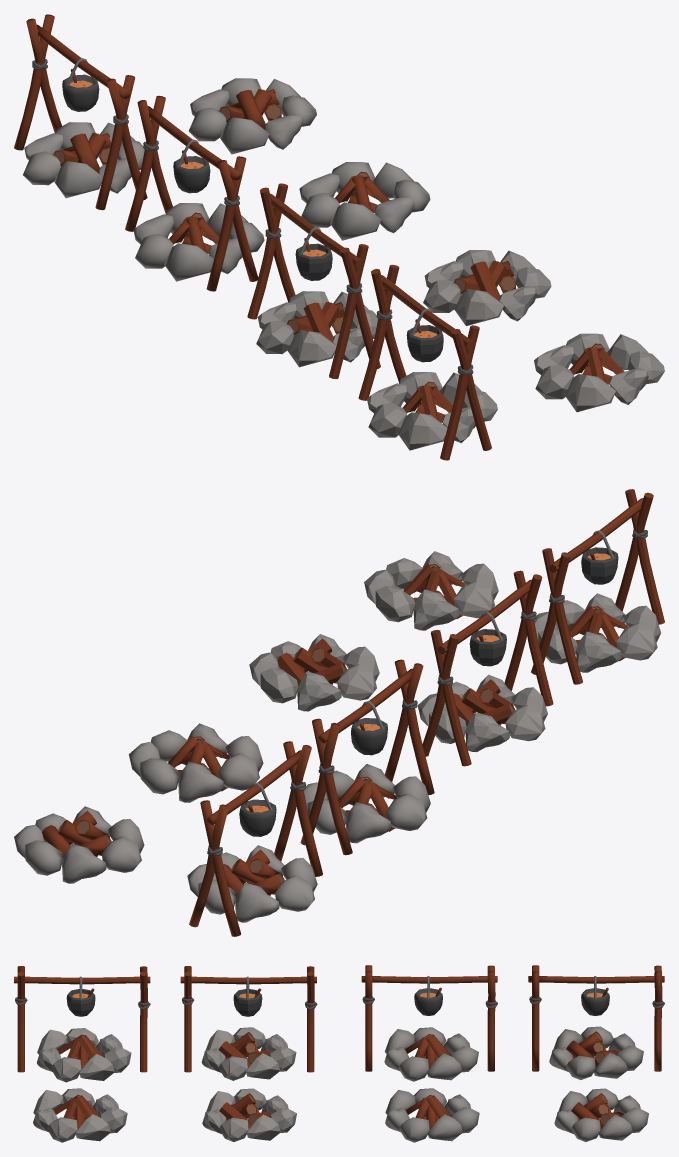
Rendered from Cookingpot_Campfire.fbx.
3 renders of one model, top to bottom at view 1: azimuth 30°, elevation 25°; view 2: azimuth 150°, elevation 25°; view 3: azimuth 270°, elevation 25°, orthographic. The views are drawn at different scales.
Parts seen in each view (by area): view 1: Cookingpot_firewood, Cookingpot_firewood_Smooth, Cookingpot_Logs_Smooth, Cookingpot_Logs, Campfire_Firewood, Campfire_Firewood_Smooth, Campfire_Logs_Smooth, Campfire_Logs; view 2: Cookingpot_Logs_Smooth, Cookingpot_Logs, Cookingpot_firewood, Cookingpot_firewood_Smooth, Campfire_Firewood_Smooth, Campfire_Firewood, Campfire_Logs, Campfire_Logs_Smooth; view 3: Cookingpot_firewood, Cookingpot_firewood_Smooth, Cookingpot_Logs, Cookingpot_Logs_Smooth, Campfire_Firewood, Campfire_Firewood_Smooth, Campfire_Logs, Campfire_Logs_Smooth.
Boxes of the visible parts, x1=… form: Cookingpot_firewood: x1=358, y1=264, x2=497, y2=460; Cookingpot_firewood_Smooth: x1=125, y1=95, x2=264, y2=291; Cookingpot_Logs_Smooth: x1=14, y1=14, x2=147, y2=210; Cookingpot_Logs: x1=247, y1=183, x2=380, y2=378; Campfire_Firewood: x1=534, y1=333, x2=664, y2=412; Campfire_Firewood_Smooth: x1=299, y1=162, x2=430, y2=240; Campfire_Logs_Smooth: x1=188, y1=78, x2=316, y2=154; Campfire_Logs: x1=423, y1=250, x2=551, y2=325; Cookingpot_Logs_Smooth: x1=187, y1=741, x2=322, y2=936; Cookingpot_Logs: x1=417, y1=570, x2=553, y2=766; Cookingpot_firewood: x1=531, y1=489, x2=664, y2=684; Cookingpot_firewood_Smooth: x1=300, y1=659, x2=434, y2=855; Campfire_Firewood_Smooth: x1=128, y1=723, x2=263, y2=802; Campfire_Firewood: x1=364, y1=551, x2=498, y2=630; Campfire_Logs: x1=249, y1=634, x2=379, y2=711; Campfire_Logs_Smooth: x1=14, y1=806, x2=144, y2=883; Cookingpot_firewood: x1=14, y1=966, x2=150, y2=1082; Cookingpot_firewood_Smooth: x1=361, y1=965, x2=497, y2=1081; Cookingpot_Logs: x1=180, y1=966, x2=317, y2=1080; Cookingpot_Logs_Smooth: x1=528, y1=965, x2=664, y2=1079; Campfire_Firewood: x1=33, y1=1088, x2=127, y2=1142; Campfire_Firewood_Smooth: x1=385, y1=1088, x2=479, y2=1142; Campfire_Logs: x1=202, y1=1088, x2=296, y2=1141; Campfire_Logs_Smooth: x1=554, y1=1088, x2=648, y2=1141.
Bounding box in the file's own units: 655 × 286 × 1739.
